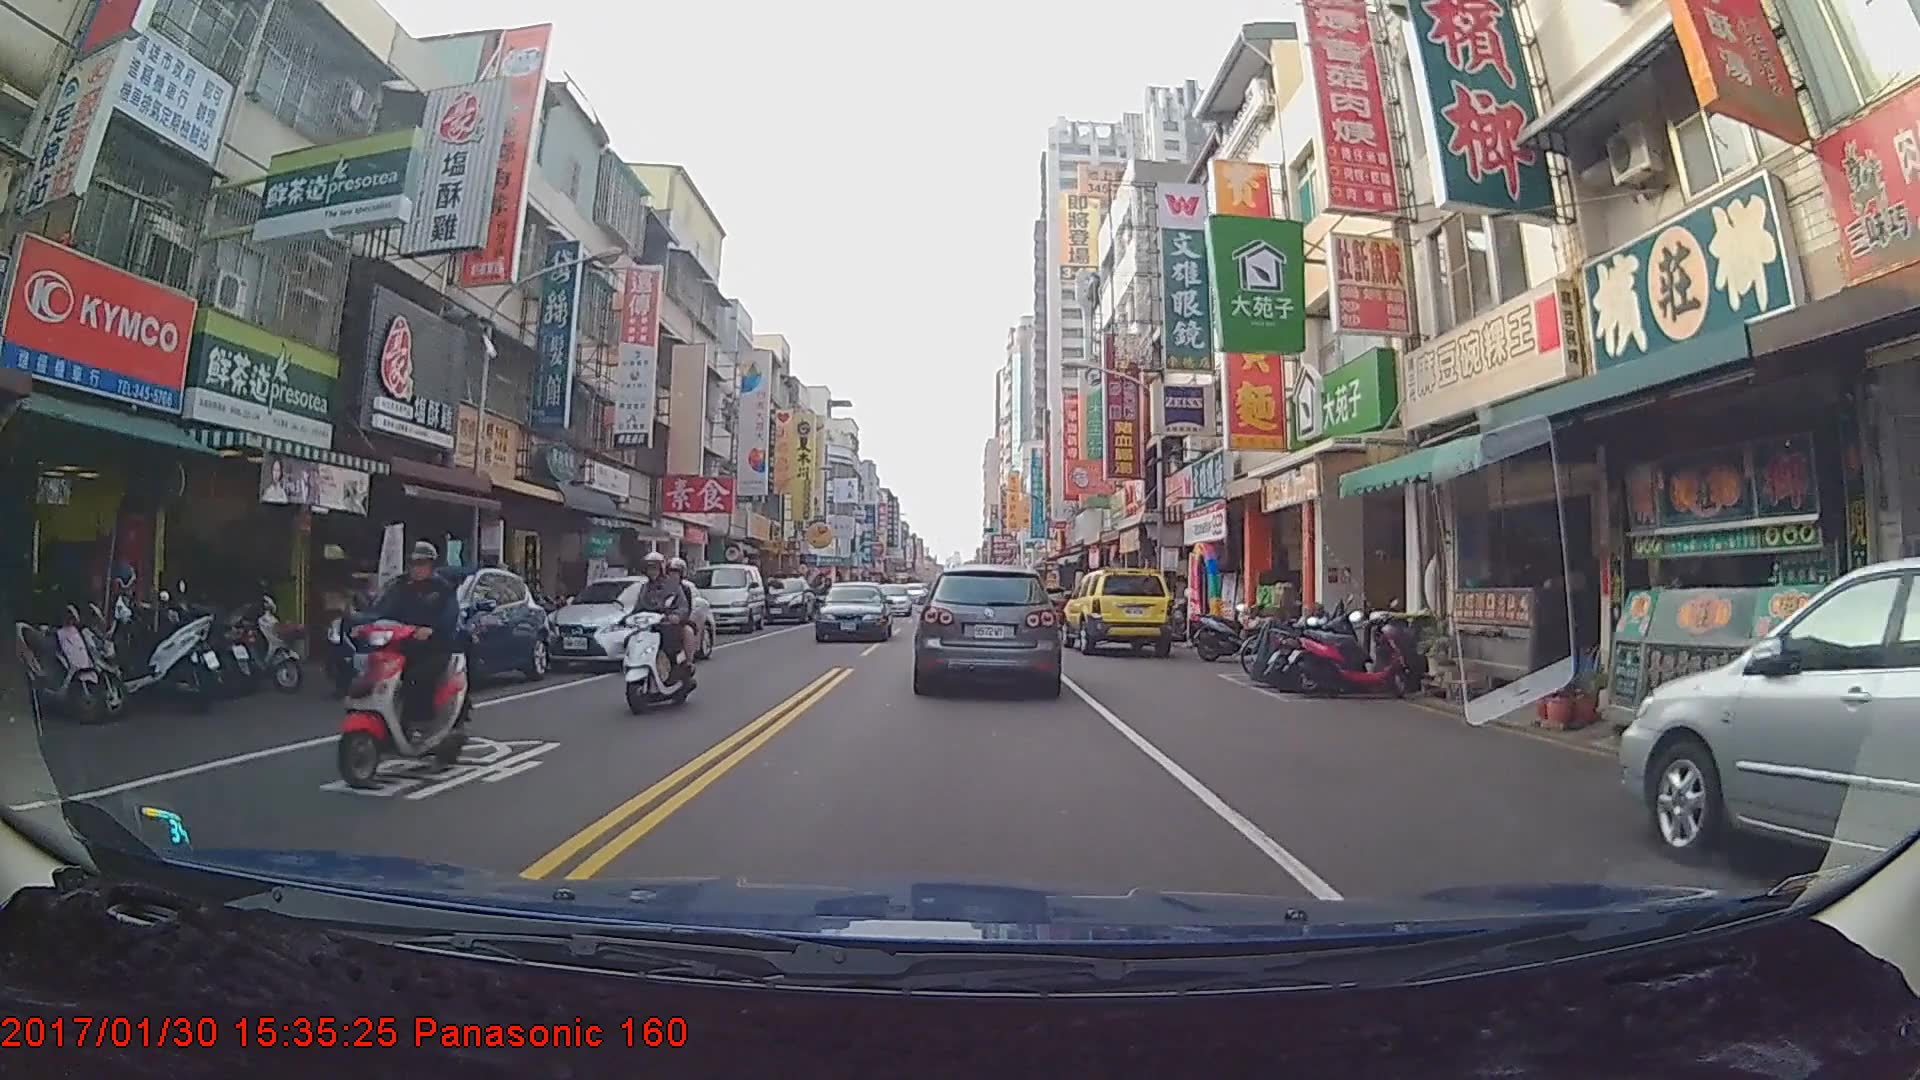rider: (332, 535, 478, 788), (612, 554, 703, 720)
vehicle: (1620, 555, 1920, 938), (319, 561, 549, 694), (916, 563, 1058, 693), (543, 582, 715, 676), (1063, 565, 1174, 655), (688, 562, 764, 633), (812, 580, 890, 641), (761, 574, 818, 625), (873, 581, 912, 614)
